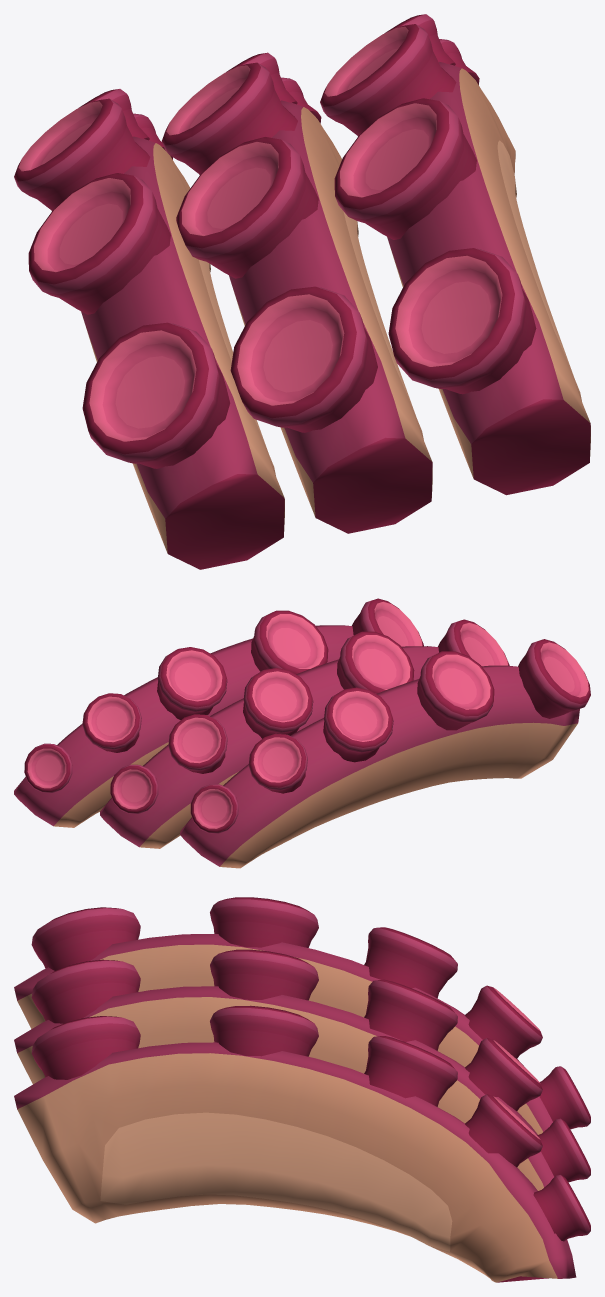
The model's file is sushi_purple.fbx.
3 views of the same model, one above another, from view 1: azimuth 30°, elevation 25°; view 2: azimuth 150°, elevation 25°; view 3: azimuth 270°, elevation 25° (orthographic). The views are drawn at different scales.
Parts seen in each view (by area): view 1: sushi_purple; view 2: sushi_purple; view 3: sushi_purple.
Part boxes in pixels (<box>): sushi_purple: <box>14,14,590,569</box>; sushi_purple: <box>14,598,590,868</box>; sushi_purple: <box>14,897,590,1282</box>.
Size of the model in its own units: 2.12 by 0.828 by 2.
